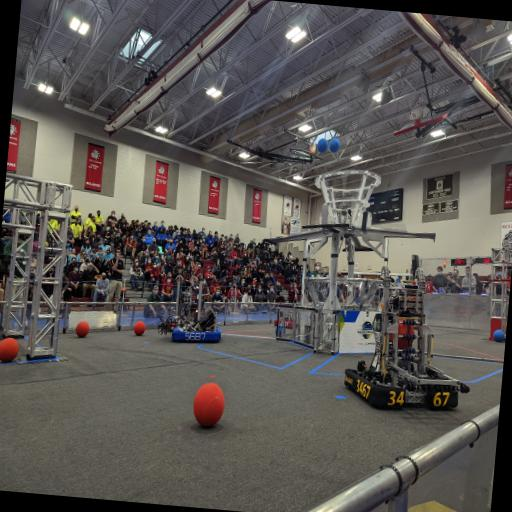robot: (168, 278, 226, 344)
